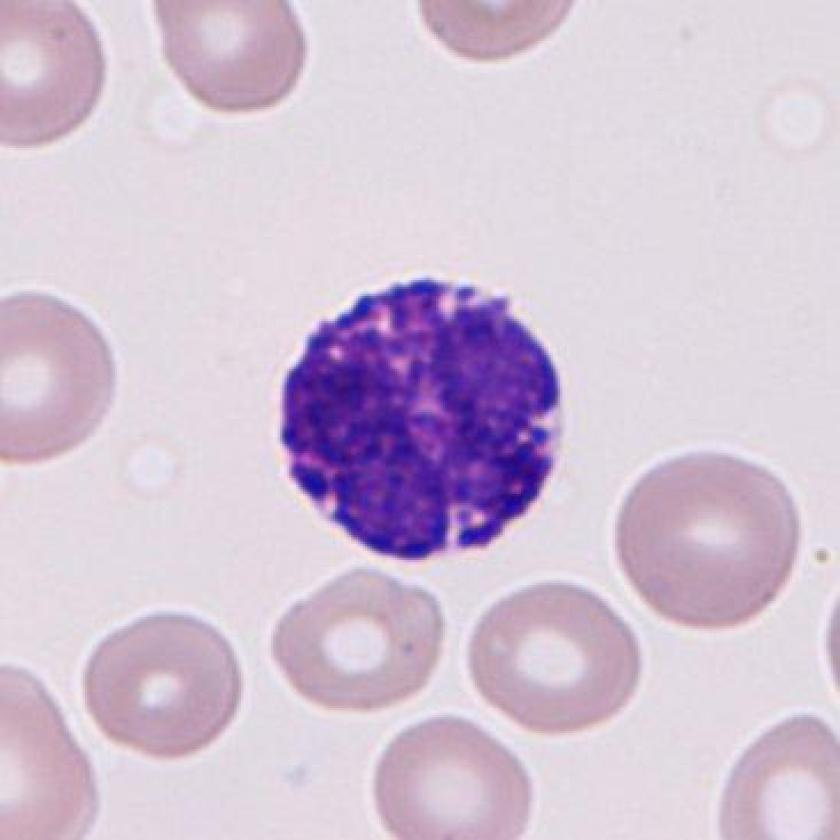basophil: (254, 265, 589, 570)
